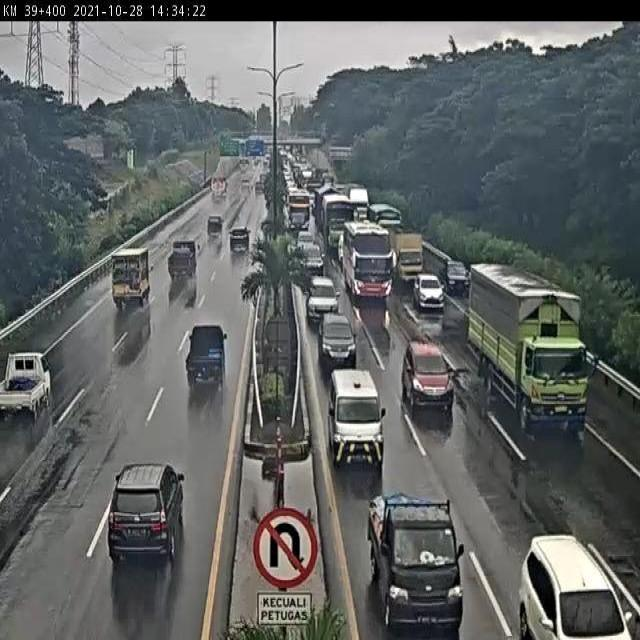big bus: (341, 221, 395, 300), (287, 194, 313, 234)
big truck: (470, 261, 593, 435), (110, 245, 153, 308), (321, 195, 357, 252)
car: (366, 491, 469, 636), (106, 463, 187, 565), (326, 368, 385, 469), (402, 342, 456, 418), (0, 349, 53, 424), (182, 323, 229, 388), (318, 314, 359, 370), (306, 275, 339, 325), (412, 272, 445, 311), (443, 258, 473, 294), (300, 242, 327, 278), (298, 232, 319, 257), (294, 232, 317, 252)
small truck: (392, 231, 425, 288)
